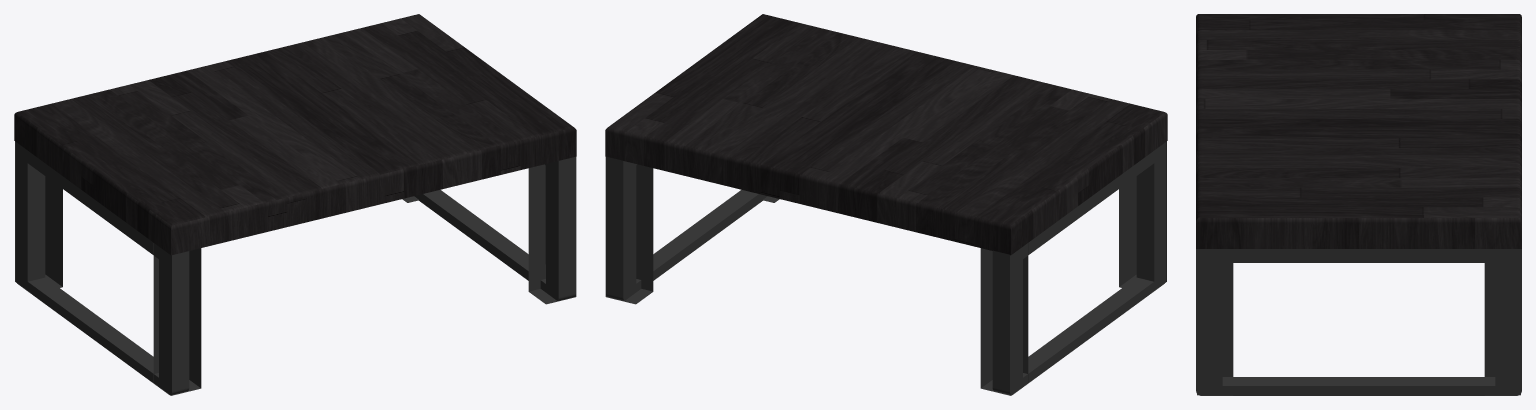
File: Table.gltf
3 renders of one model, left to right at view 1: azimuth 30°, elevation 25°; view 2: azimuth 150°, elevation 25°; view 3: azimuth 270°, elevation 25°, orthographic. The views are drawn at different scales.
Visible parts, largest first — view 1: Plate, Legs02Left, Legs02Right, Legs01Left, Legs01Right; view 2: Plate, Legs02Left, Legs02Right, Legs01Left, Legs01Right; view 3: Plate, Legs02Right, Legs01Right.
Boxes of the visible parts, x1,y1,x2,y2 form: Plate: (14,14,576,255); Legs02Left: (15,142,189,395); Legs02Right: (414,156,575,300); Legs01Left: (15,141,201,395); Legs01Right: (402,157,576,304); Plate: (605,14,1167,255); Legs02Left: (992,142,1166,395); Legs02Right: (606,156,767,300); Legs01Left: (980,141,1166,395); Legs01Right: (605,157,779,304); Plate: (1196,14,1521,248); Legs02Right: (1196,249,1521,395); Legs01Right: (1197,263,1520,395).
Bounding box in the file's own units: 2.99 × 1.21 × 2.
Materials: 2 (1 with a texture image).
